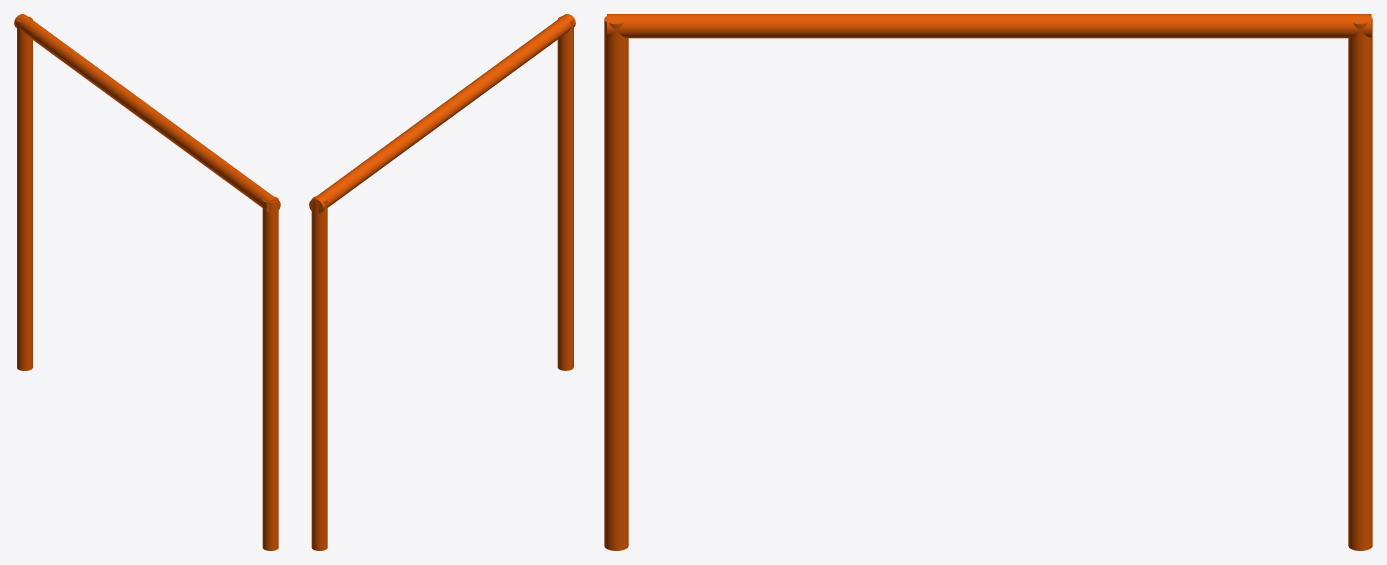
File: gate1.dae
3 views of the same model, side by side, from view 1: azimuth 30°, elevation 25°; view 2: azimuth 150°, elevation 25°; view 3: azimuth 270°, elevation 25° (orthographic). The views are drawn at different scales.
Parts seen in each view (by area): view 1: Cylinder_001, Cylinder_002, Cylinder; view 2: Cylinder_002, Cylinder_001, Cylinder; view 3: Cylinder, Cylinder_001, Cylinder_002.
Boxes of the visible parts, <box> form: Cylinder_001: <box>262,196,278,550</box>; Cylinder_002: <box>17,16,32,370</box>; Cylinder: <box>14,14,280,212</box>; Cylinder_002: <box>311,196,327,550</box>; Cylinder_001: <box>557,16,573,370</box>; Cylinder: <box>309,14,575,213</box>; Cylinder: <box>607,14,1371,38</box>; Cylinder_001: <box>604,16,628,550</box>; Cylinder_002: <box>1348,17,1372,550</box>.
Size of the model in its own units: 0.0635 by 2.01 by 1.53.
